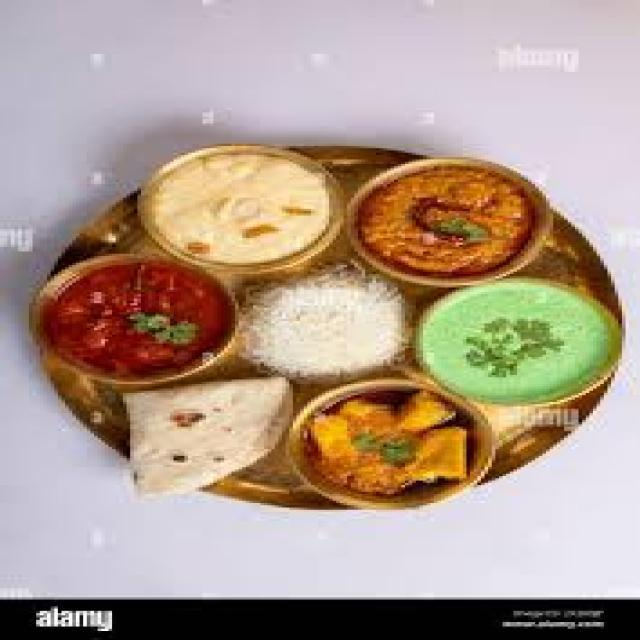dal: (140, 153, 342, 272)
rice: (238, 276, 415, 378)
roti: (106, 376, 292, 501)
sweet: (38, 257, 236, 382), (288, 387, 471, 506)
veg-fry: (342, 167, 548, 283), (279, 384, 470, 508)
